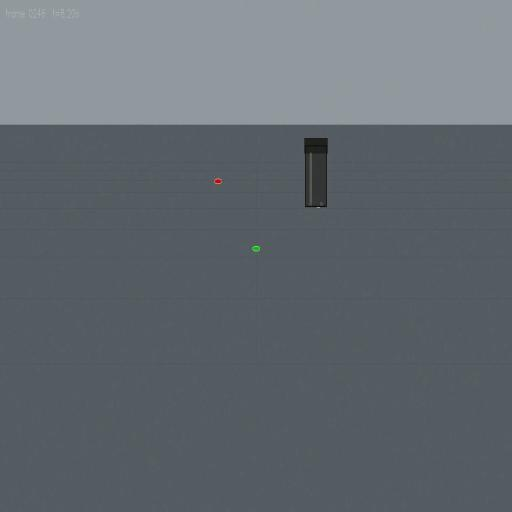bin: (304, 137, 328, 208)
